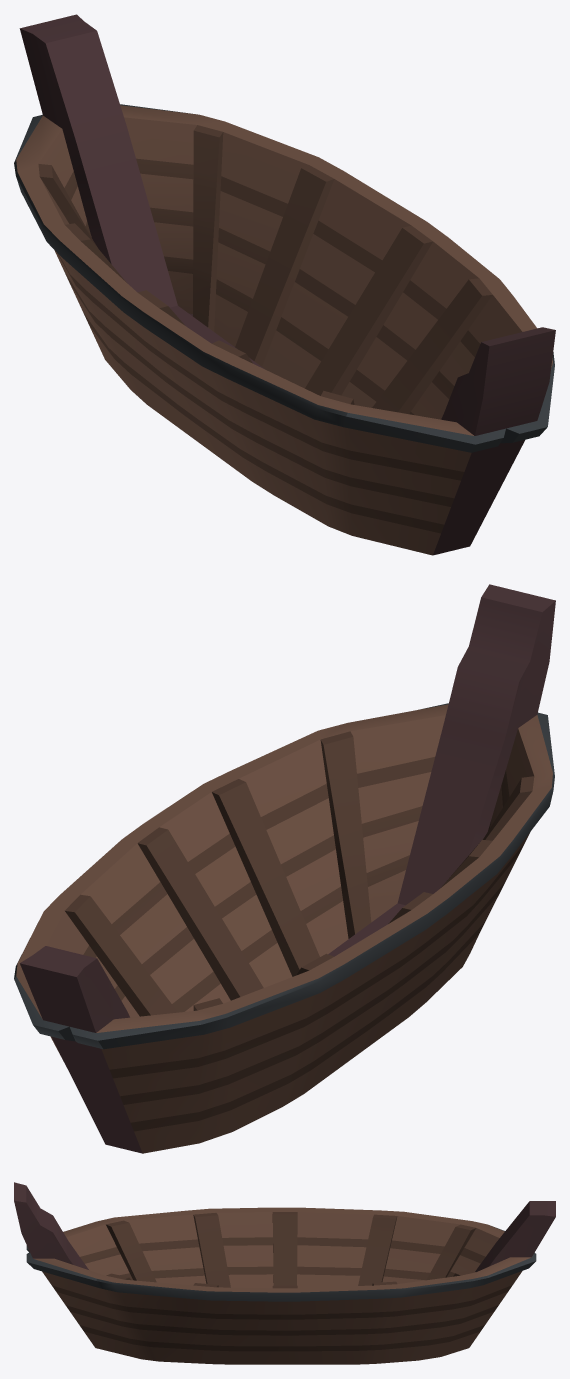
Rendered from boat.fbx.
3 renders of one model, top to bottom at view 1: azimuth 30°, elevation 25°; view 2: azimuth 150°, elevation 25°; view 3: azimuth 270°, elevation 25°, orthographic. The views are drawn at different scales.
Visible parts, largest first — view 1: boat; view 2: boat; view 3: boat.
Boxes of the visible parts, x1=… form: boat: x1=14, y1=14, x2=555, y2=555; boat: x1=14, y1=584, x2=555, y2=1153; boat: x1=14, y1=1182, x2=555, y2=1364.
Bounding box in the file's own units: 129 × 107 × 346.
